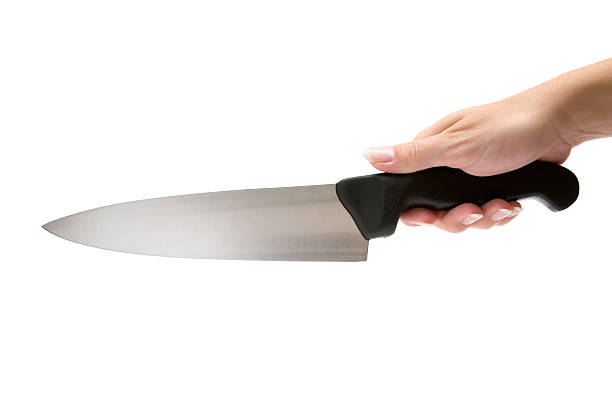knife: (42, 159, 580, 262)
